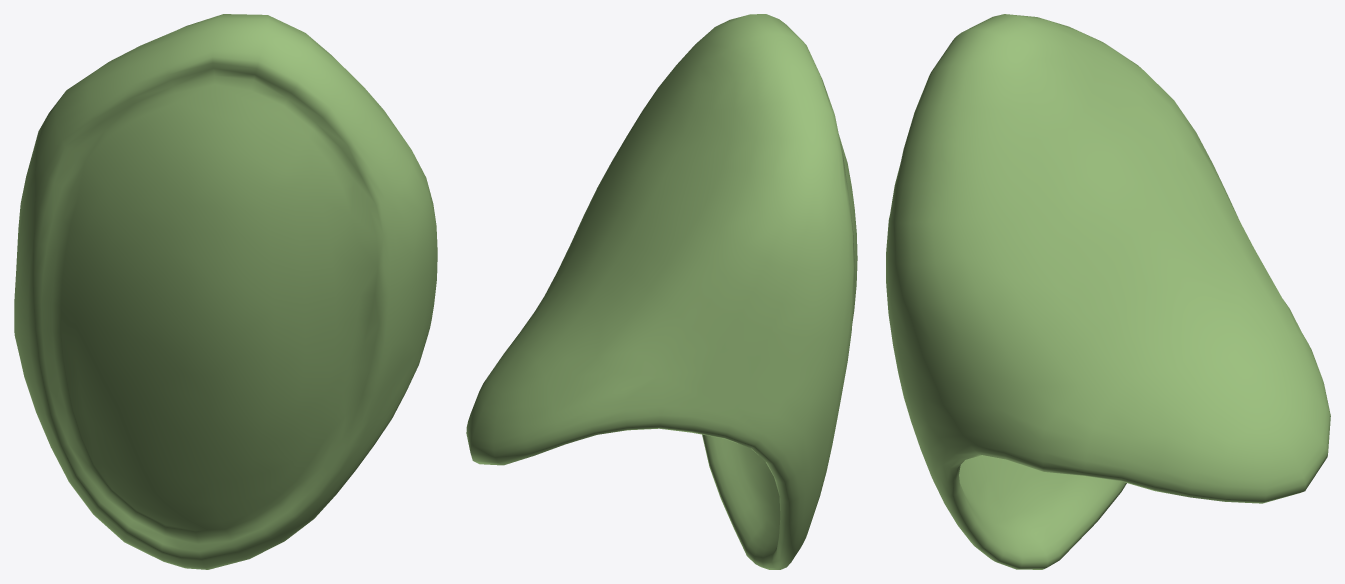
The model's file is BL3_Enamel_Prongs.001.glb.
3 views of the same model, side by side, from view 1: azimuth 30°, elevation 25°; view 2: azimuth 150°, elevation 25°; view 3: azimuth 270°, elevation 25° (orthographic). The views are drawn at different scales.
Parts seen in each view (by area): view 1: BL3_Enamel_Prongs.001; view 2: BL3_Enamel_Prongs.001; view 3: BL3_Enamel_Prongs.001.
Part boxes in pixels (x1,y1,x2,y2): BL3_Enamel_Prongs.001: (14, 14, 437, 569); BL3_Enamel_Prongs.001: (466, 14, 857, 569); BL3_Enamel_Prongs.001: (886, 14, 1330, 569).
Size of the model in its own units: 0.7211 by 1.1 by 0.8014.
